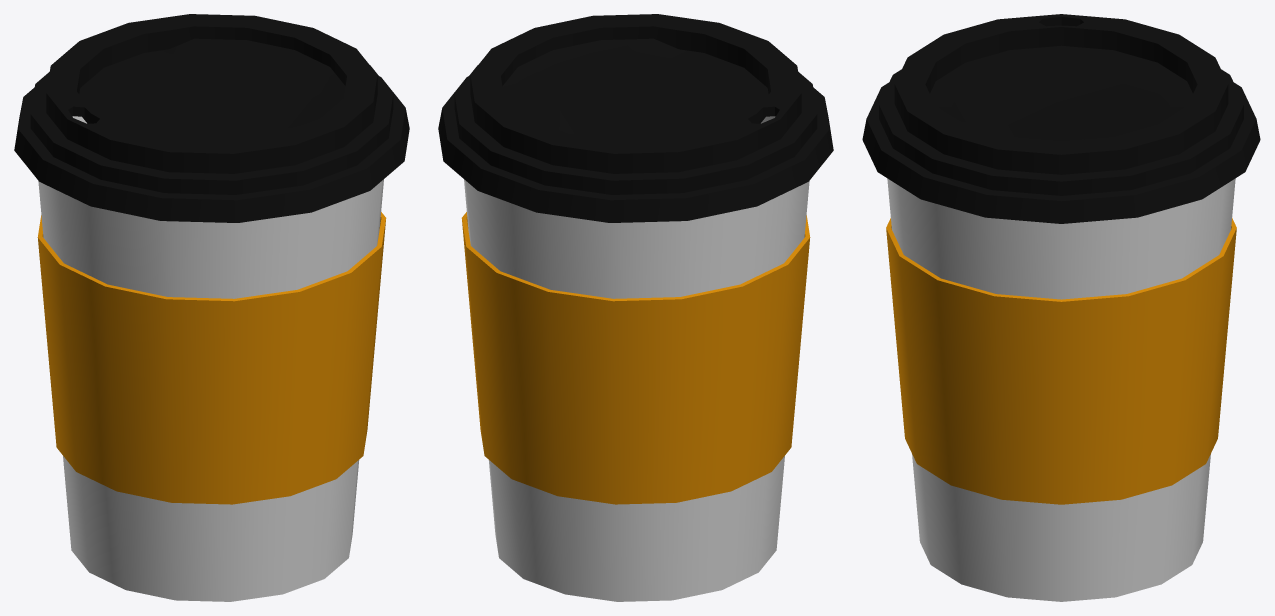
Rendered from papercup.glb.
3 renders of one model, left to right at view 1: azimuth 30°, elevation 25°; view 2: azimuth 150°, elevation 25°; view 3: azimuth 270°, elevation 25°, orthographic.
Visible parts, largest first — view 1: Cylinder.003, Cylinder.004, Cylinder.002; view 2: Cylinder.003, Cylinder.004, Cylinder.002; view 3: Cylinder.003, Cylinder.004, Cylinder.002.
Boxes of the visible parts, bbox=[...] form: Cylinder.003: bbox=[37, 212, 386, 504]; Cylinder.004: bbox=[14, 14, 409, 222]; Cylinder.002: bbox=[38, 116, 383, 601]; Cylinder.003: bbox=[461, 212, 810, 504]; Cylinder.004: bbox=[438, 14, 833, 222]; Cylinder.002: bbox=[464, 116, 809, 601]; Cylinder.003: bbox=[886, 218, 1236, 504]; Cylinder.004: bbox=[862, 14, 1260, 223]; Cylinder.002: bbox=[887, 178, 1235, 601].
Bounding box in the file's own units: 2.92 × 3.7 × 2.92.
